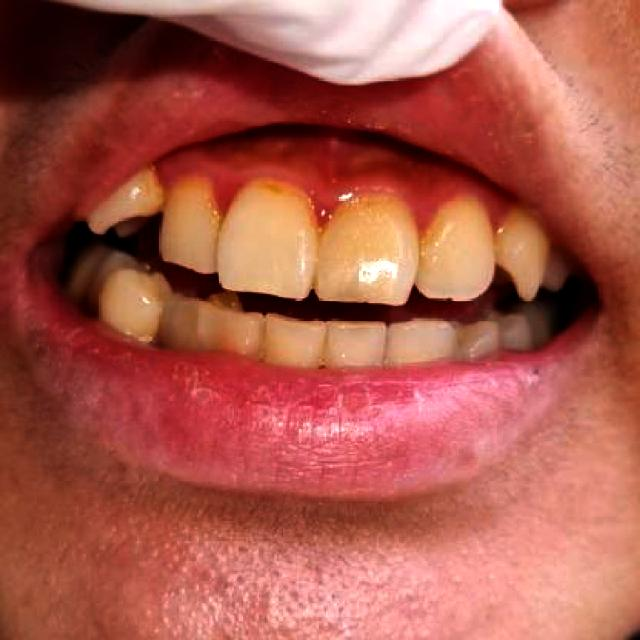Plaque: (153, 156, 514, 243), (216, 177, 316, 301)
